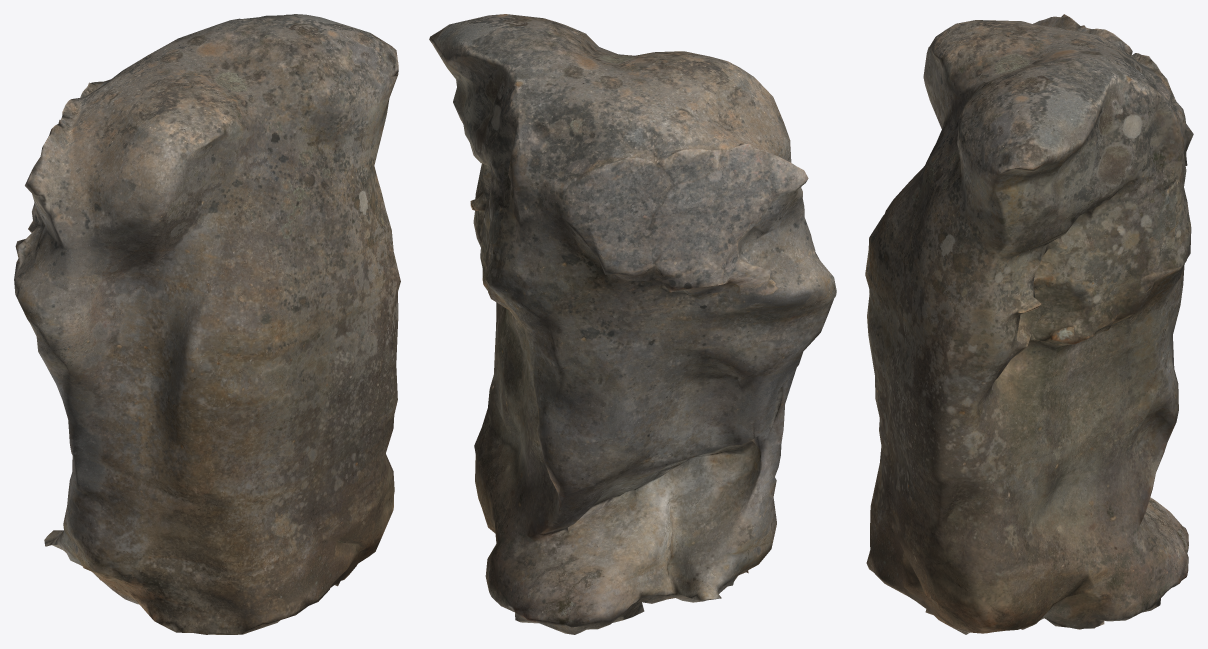
Rendered from SM_yc2kdd1_tier_2.gltf.
The picture shows the model from 3 angles, left to right: view 1: azimuth 30°, elevation 25°; view 2: azimuth 150°, elevation 25°; view 3: azimuth 270°, elevation 25°; orthographic projection. The views are drawn at different scales.
Visible parts, largest first — view 1: yc2kdd1_LOD2_TIER2_000; view 2: yc2kdd1_LOD2_TIER2_000; view 3: yc2kdd1_LOD2_TIER2_000.
Part boxes in pixels (x1,y1,x2,y2): yc2kdd1_LOD2_TIER2_000: (14,14,400,634); yc2kdd1_LOD2_TIER2_000: (429,14,836,634); yc2kdd1_LOD2_TIER2_000: (865,14,1193,634).
Bounding box in the file's own units: 1.12 × 1.5 × 0.7996.
Materials: 1 (1 with a texture image).
